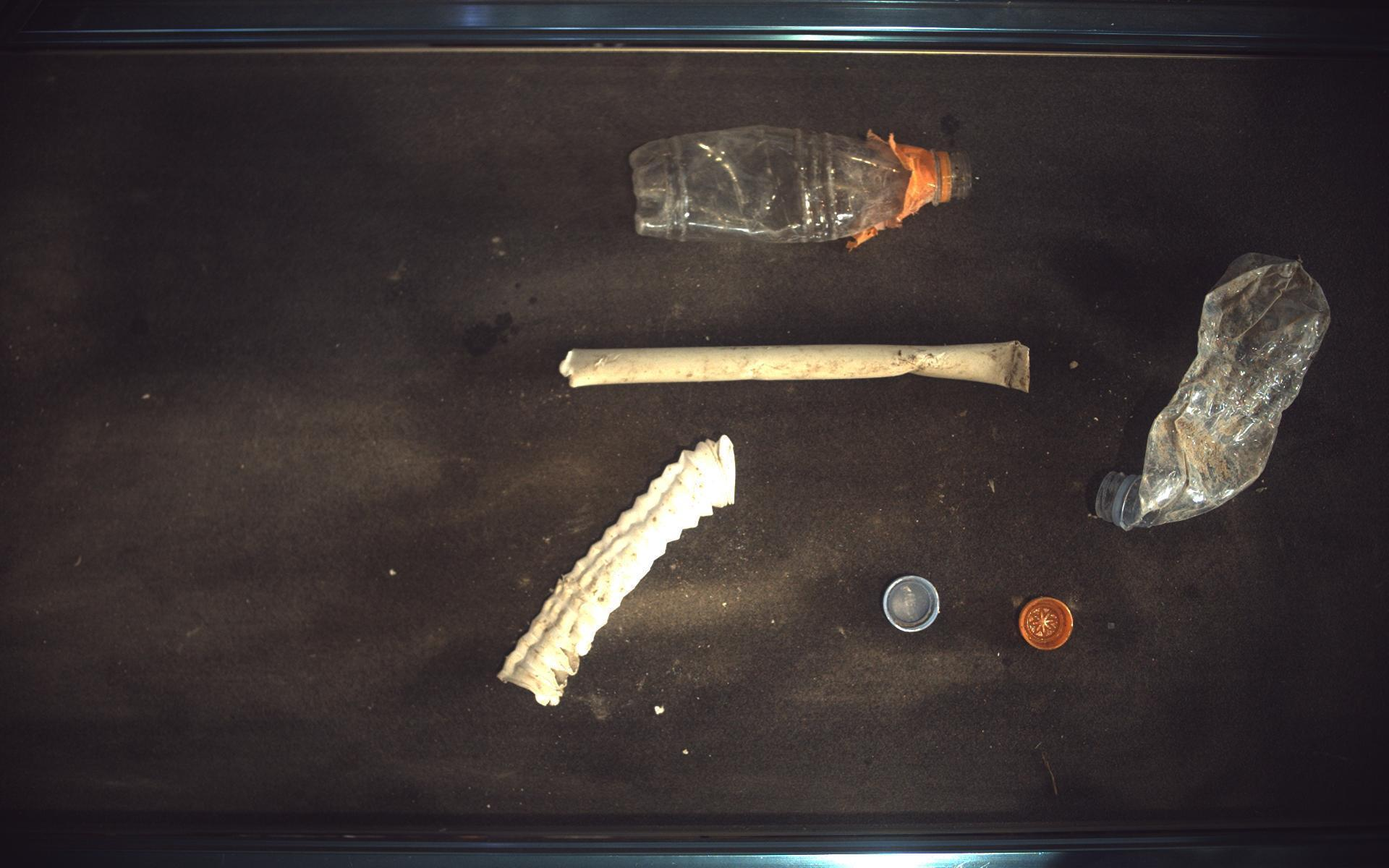general_w: (1097, 252, 1333, 531), (884, 576, 942, 634), (1021, 598, 1075, 652)
pipes: (560, 341, 1032, 391)
plastic: (498, 435, 736, 707)
